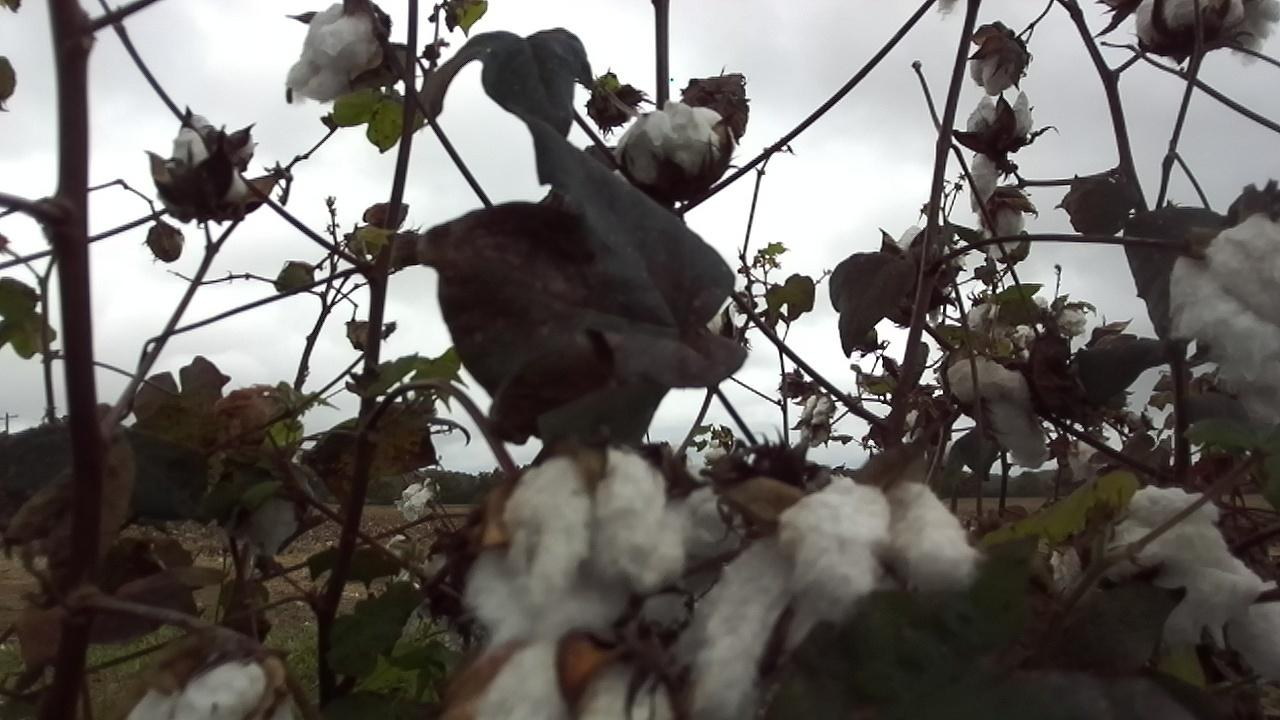cotton_ready: (686, 475, 992, 720), (462, 445, 690, 640), (1099, 484, 1280, 682), (1167, 215, 1280, 426), (447, 632, 684, 720), (119, 644, 310, 720), (945, 355, 1050, 469), (622, 97, 732, 189), (292, 0, 387, 104), (165, 121, 255, 216), (1139, 0, 1280, 55), (969, 95, 1033, 204), (967, 32, 1031, 94)
